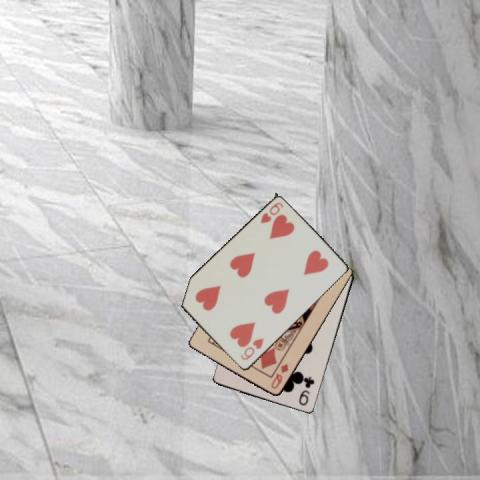6h: (237, 335, 266, 362), (257, 199, 285, 226)
9c: (297, 374, 316, 407)
Qd: (268, 360, 290, 390)
